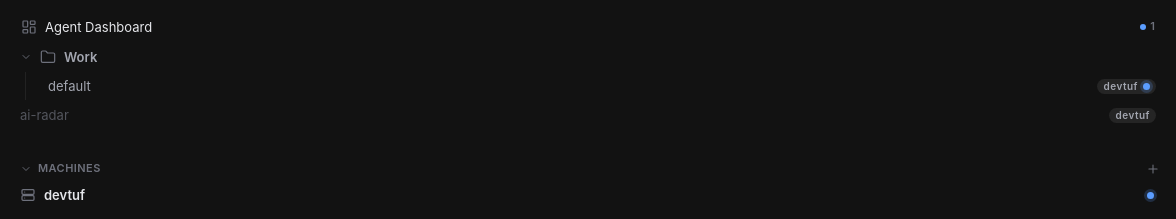
Test: Sidebar › renders sessions inside their group and collapses it
Click the button "Work": x=81, y=57 [12,43,1164,71]
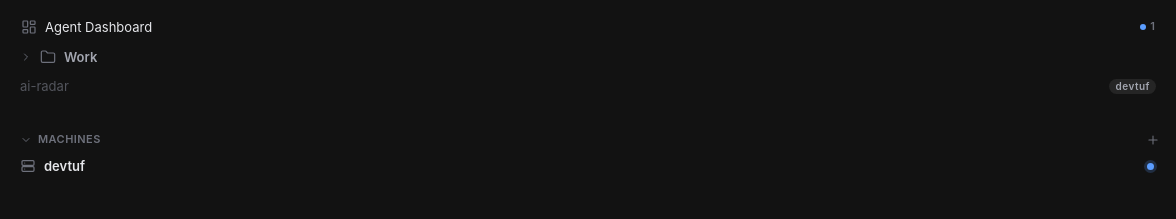
Check: the text "ai-radar" is shown, box [20,77,69,95]
Check: the button "default" is gone
